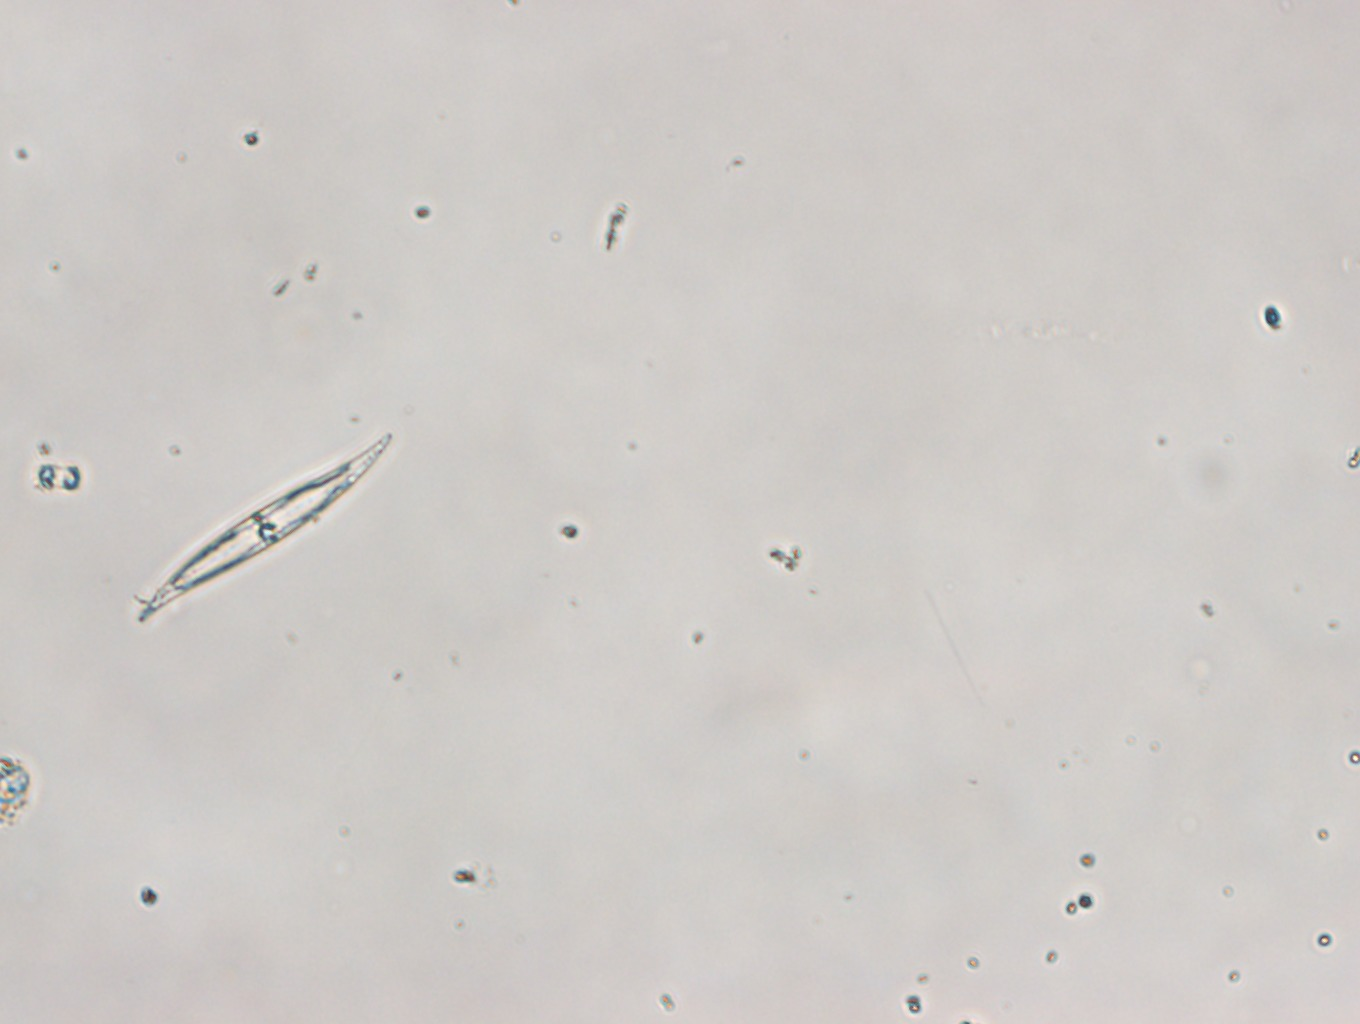pleurosigma pelagicum: (139, 432, 393, 624)
